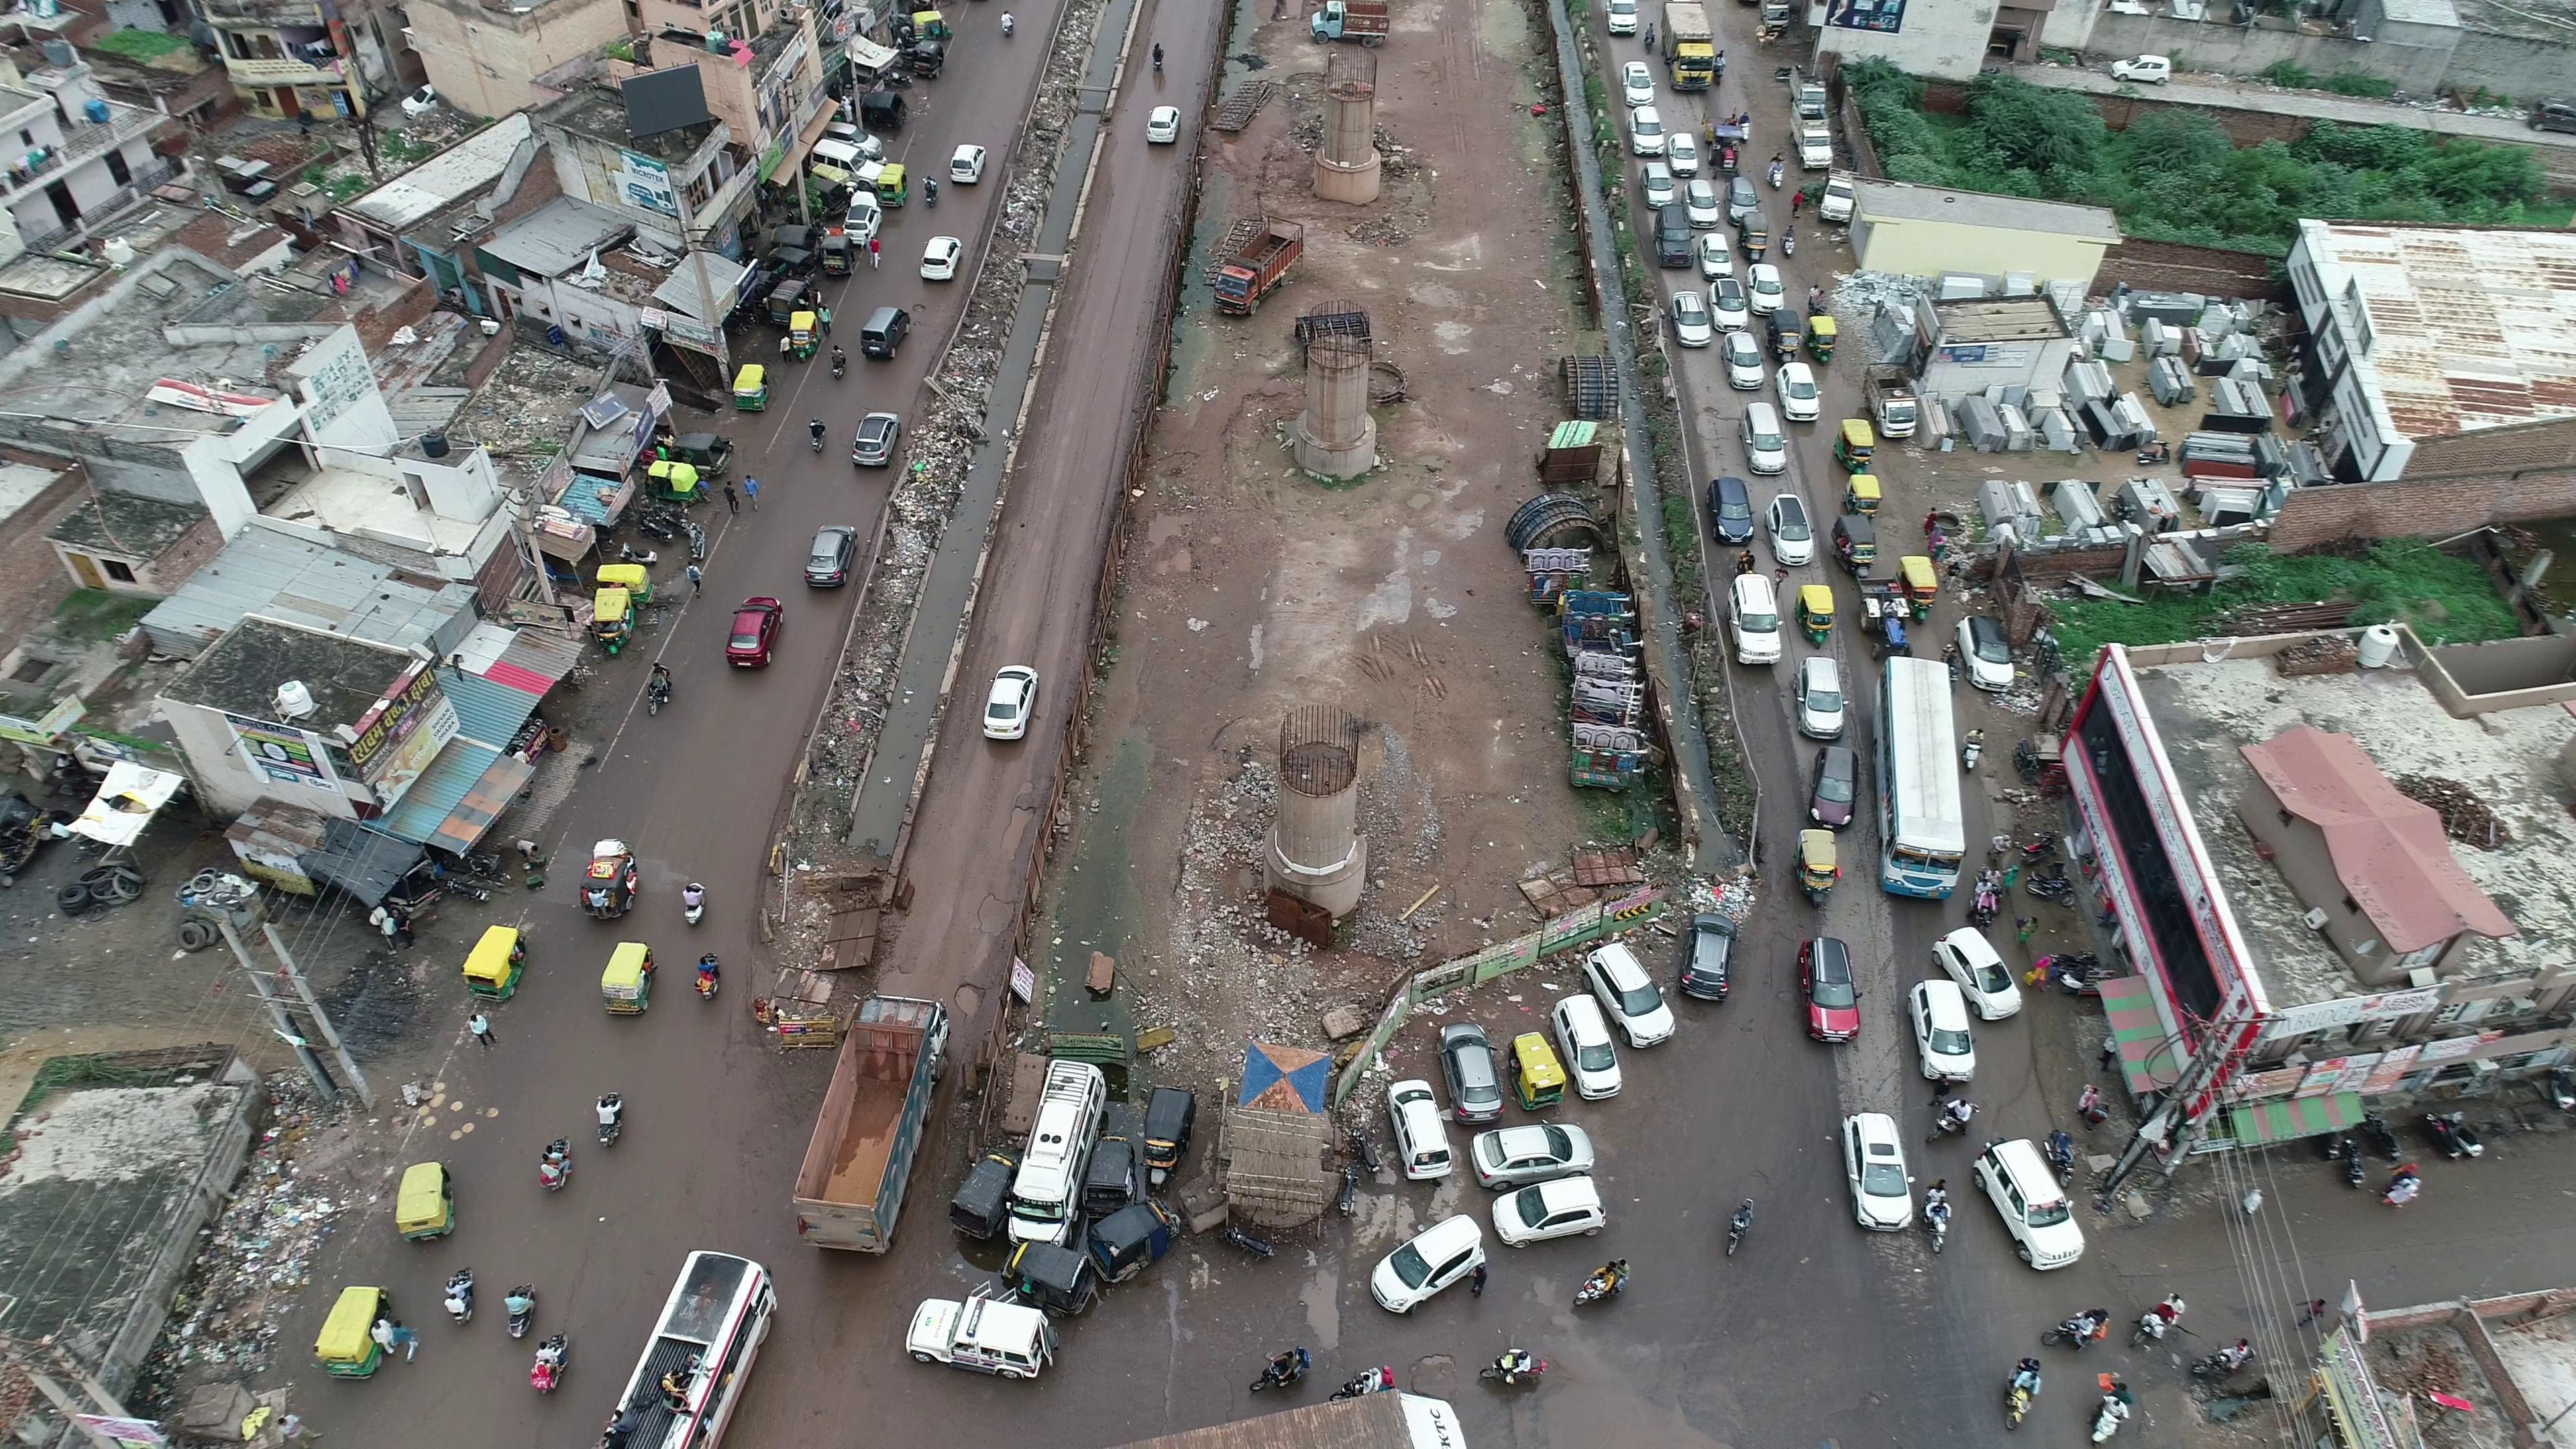Potholes: (893, 295, 954, 338)
